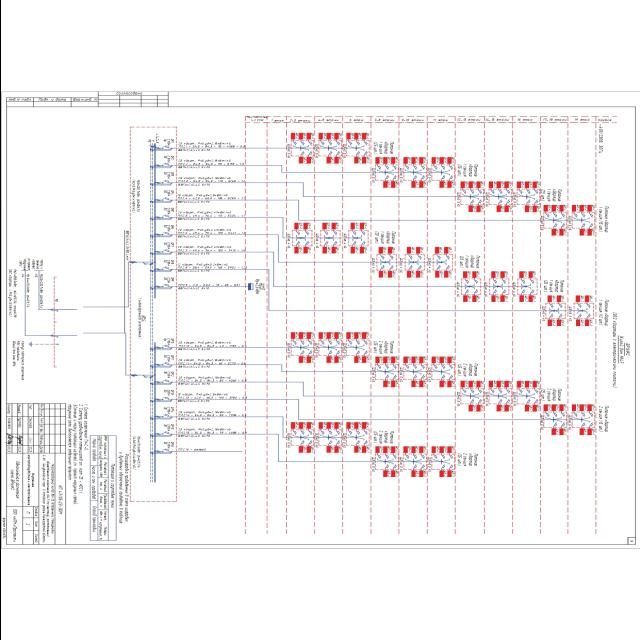-: (162, 388, 170, 396), (162, 224, 170, 232), (162, 354, 170, 362), (162, 138, 170, 146), (162, 441, 170, 449), (162, 338, 170, 346), (162, 207, 170, 215), (162, 275, 170, 283), (162, 242, 170, 250), (162, 172, 170, 180), (162, 189, 170, 197), (162, 371, 170, 379), (162, 406, 170, 414), (162, 424, 170, 432), (162, 258, 170, 266), (162, 155, 170, 163), (140, 314, 146, 322)
QF: (160, 379, 170, 384), (160, 396, 170, 401), (160, 448, 170, 452), (160, 146, 170, 150), (160, 344, 170, 348), (160, 266, 170, 270), (160, 284, 170, 288), (160, 180, 170, 184), (160, 162, 170, 166), (160, 214, 170, 218), (160, 197, 170, 201), (160, 232, 170, 236), (160, 362, 170, 366), (160, 414, 170, 418), (160, 432, 170, 436), (160, 250, 170, 253)
